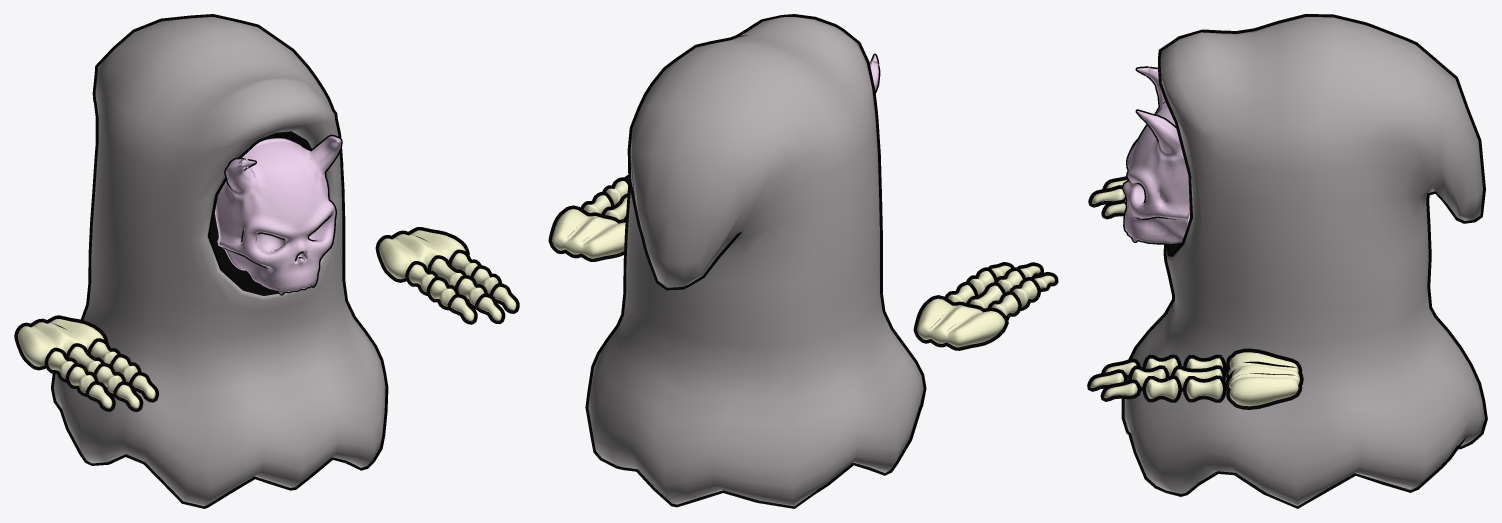
File: Feje2.fbx
3 renders of one model, left to right at view 1: azimuth 30°, elevation 25°; view 2: azimuth 150°, elevation 25°; view 3: azimuth 270°, elevation 25°, orthographic. The views are drawn at different scales.
Visible parts, largest first — view 1: Cube.001, skull2_low; view 2: Cube.001; view 3: Cube.001, skull2_low.
Boxes of the visible parts, x1,y1,x2,y2 form: Cube.001: (14,14,519,508); skull2_low: (215,134,342,295); Cube.001: (548,14,1058,508); Cube.001: (1087,14,1487,508); skull2_low: (1121,66,1189,245).
Size of the model in its own units: 891 by 788 by 669.
